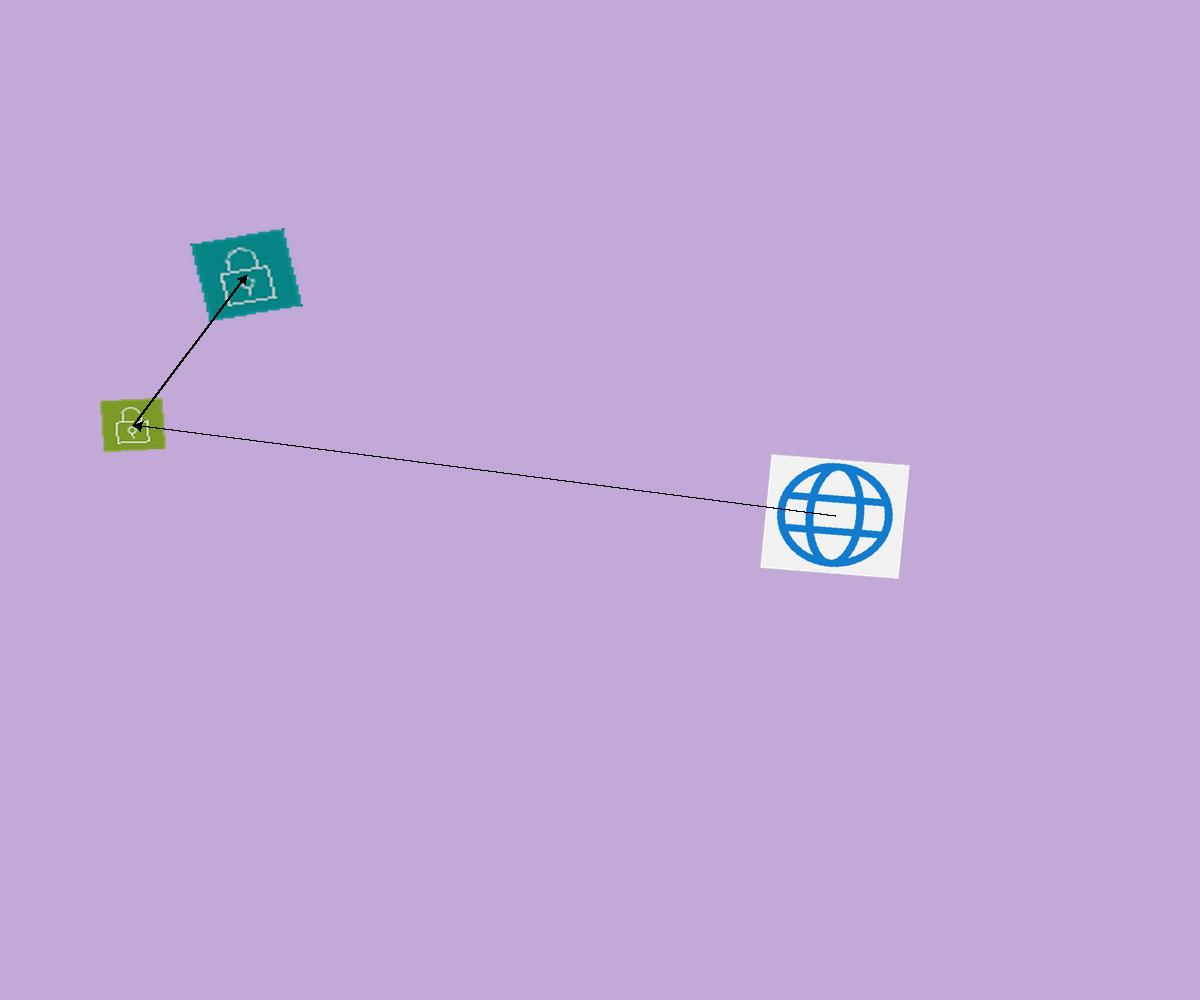AWS-Private-subnet: (190, 228, 303, 322)
AWS-Public-subnet: (99, 397, 167, 453)
Azure_http: (760, 454, 910, 579)
